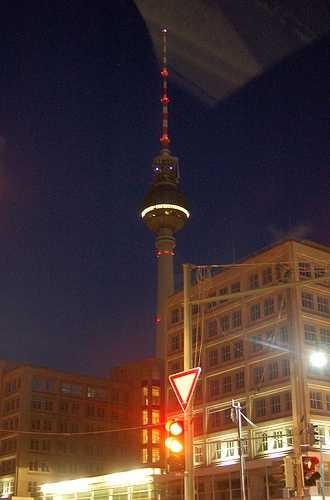red: (303, 454, 322, 488), (167, 417, 186, 437)
